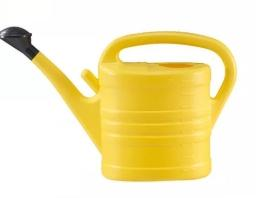ARROSOIR: (0, 12, 245, 185)
